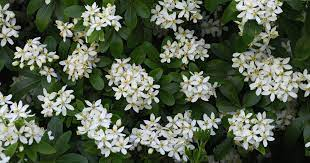flower: (73, 43, 99, 60), (6, 125, 26, 147), (54, 95, 76, 115), (24, 125, 45, 145), (82, 99, 104, 118), (9, 101, 32, 119), (55, 20, 75, 40), (253, 39, 276, 56), (93, 130, 114, 148), (28, 48, 45, 70), (277, 85, 299, 102), (235, 133, 254, 152), (76, 60, 95, 79), (113, 136, 132, 155), (180, 74, 199, 93), (150, 6, 168, 26), (255, 132, 279, 147), (111, 56, 132, 73), (166, 143, 186, 160), (0, 27, 17, 47), (123, 94, 141, 112), (178, 45, 196, 63), (164, 13, 182, 31), (246, 50, 264, 68), (176, 1, 195, 18), (105, 68, 125, 84), (106, 125, 126, 141), (77, 121, 97, 137), (201, 113, 222, 128), (272, 58, 293, 73), (143, 87, 161, 104), (231, 55, 249, 72), (182, 119, 198, 138), (38, 86, 57, 102), (112, 84, 131, 100), (130, 128, 149, 144), (165, 112, 181, 131), (264, 23, 279, 43), (228, 112, 242, 133), (121, 71, 142, 85), (187, 11, 208, 25), (102, 141, 119, 158), (252, 64, 269, 81), (39, 66, 57, 82), (90, 16, 109, 31), (191, 77, 210, 92), (251, 113, 268, 129), (14, 45, 31, 61), (204, 82, 221, 98), (249, 80, 266, 96), (264, 83, 280, 100), (80, 2, 99, 16), (25, 34, 42, 49), (174, 27, 192, 41), (145, 112, 163, 126), (0, 3, 15, 19), (0, 123, 15, 139), (275, 111, 291, 126), (60, 57, 77, 71), (193, 48, 211, 61), (190, 90, 211, 101), (238, 110, 253, 125), (248, 7, 262, 23), (159, 137, 170, 156), (162, 41, 178, 53), (0, 102, 9, 123), (40, 104, 54, 117), (158, 51, 174, 62), (159, 0, 175, 11), (189, 70, 205, 81), (0, 92, 12, 106), (183, 38, 197, 50), (296, 70, 310, 82), (187, 0, 205, 9), (301, 81, 310, 98)
